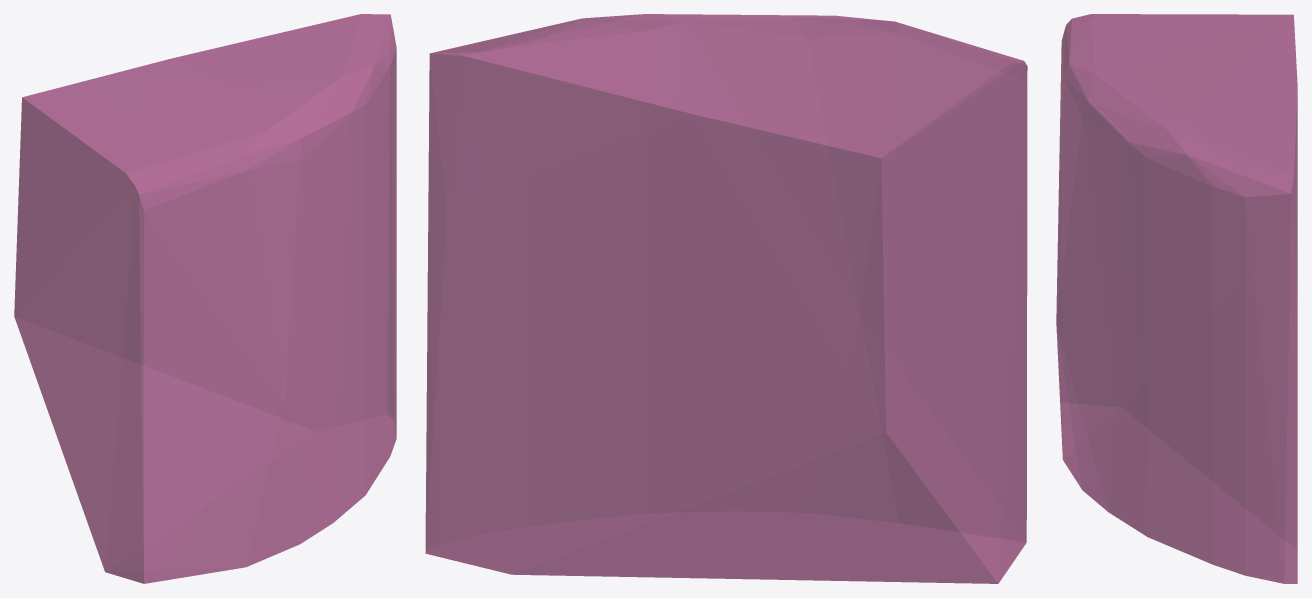
3 renders of one model, left to right at view 1: azimuth 30°, elevation 25°; view 2: azimuth 150°, elevation 25°; view 3: azimuth 270°, elevation 25°, orthographic. The views are drawn at different scales.
Parts seen in each view (by area): view 1: Shape_IndexedFaceSet.007_Shape_IndexedFaceSet.9093; view 2: Shape_IndexedFaceSet.007_Shape_IndexedFaceSet.9093; view 3: Shape_IndexedFaceSet.007_Shape_IndexedFaceSet.9093.
Boxes of the visible parts, box(x1,y1,x2,y2) form: Shape_IndexedFaceSet.007_Shape_IndexedFaceSet.9093: box(14, 14, 396, 583); Shape_IndexedFaceSet.007_Shape_IndexedFaceSet.9093: box(425, 14, 1027, 583); Shape_IndexedFaceSet.007_Shape_IndexedFaceSet.9093: box(1056, 14, 1297, 583).
Size of the model in its own units: 0.1919 by 0.2038 by 0.1109.
